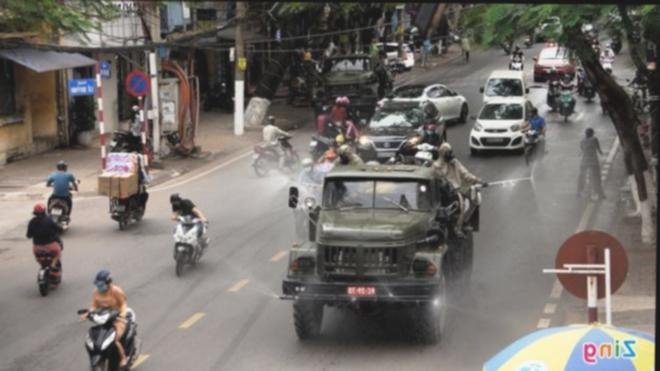License_Plate: (345, 285, 376, 296), (480, 136, 507, 145), (375, 150, 398, 159), (113, 204, 129, 214), (51, 206, 64, 217), (251, 152, 265, 160)
